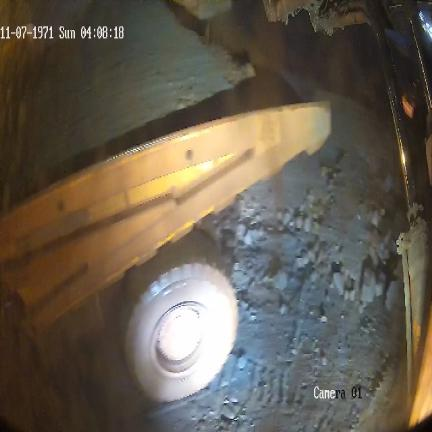pile: (200, 96, 408, 360), (13, 0, 261, 200)
